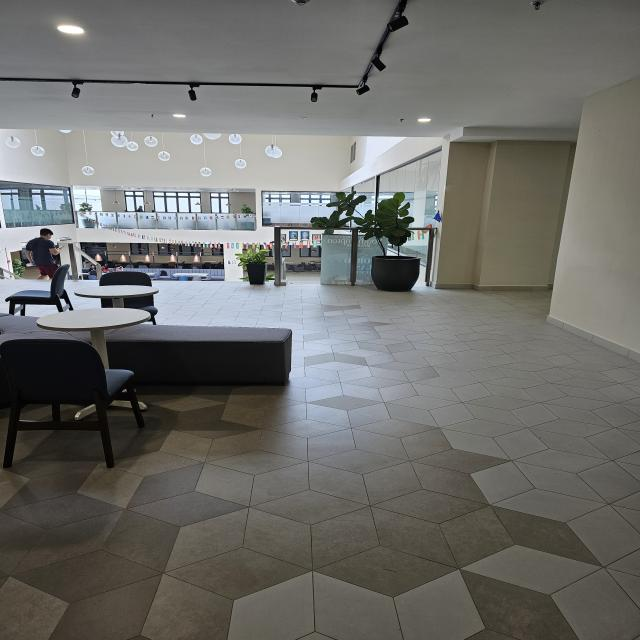footpath: (290, 351, 640, 640)
obstacle: (2, 272, 295, 461), (356, 230, 421, 292)
person: (22, 226, 66, 283)
